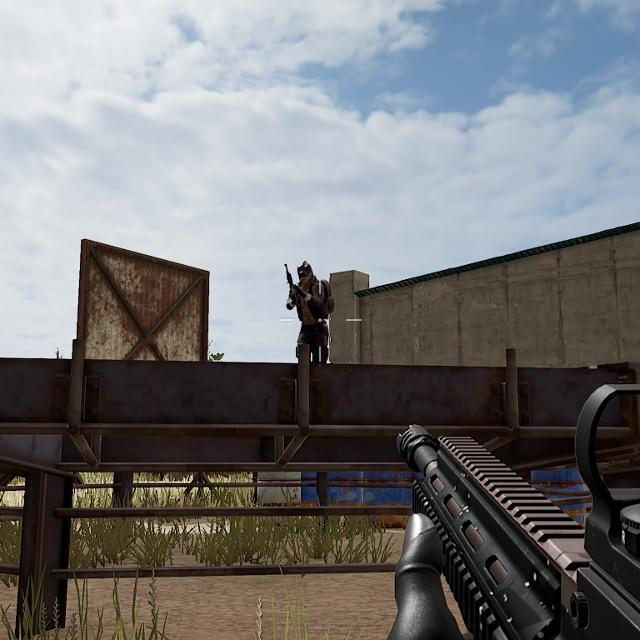head: (293, 256, 319, 288)
people: (280, 253, 348, 363)
